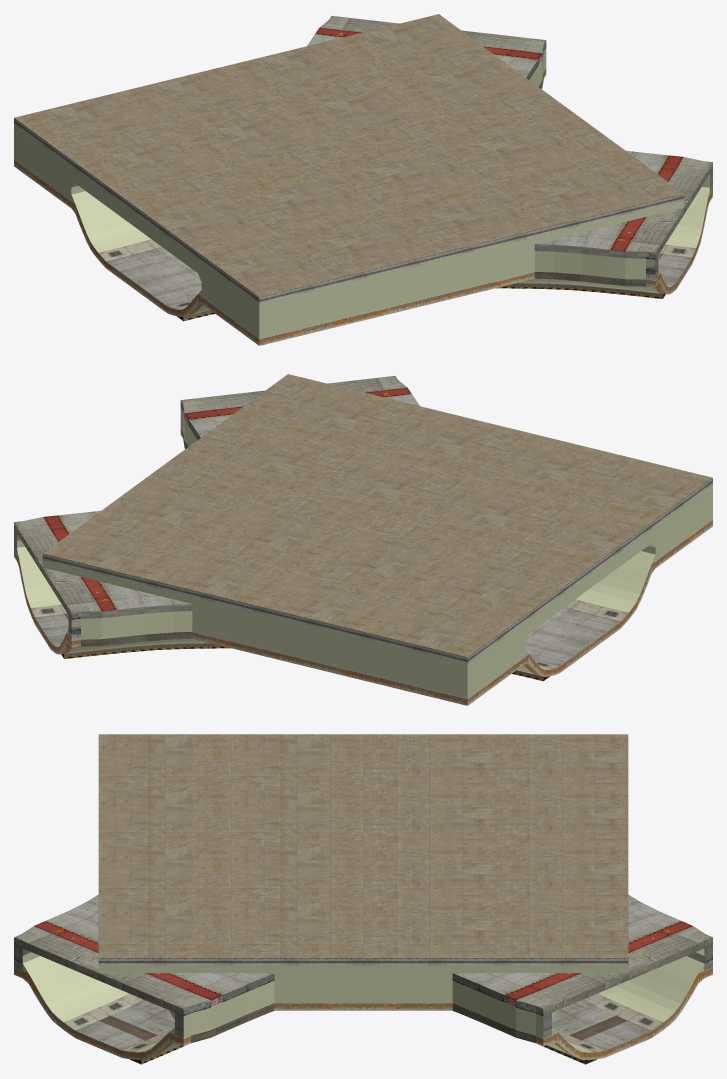
File: PlatformUnitHor_Y_SEAMED_Exprt.fbx
3 views of the same model, one above another, from view 1: azimuth 30°, elevation 25°; view 2: azimuth 150°, elevation 25°; view 3: azimuth 270°, elevation 25° (orthographic). The views are drawn at different scales.
Visible parts, largest first — view 1: PlatformUnitHor_Y_Lod0.001; view 2: PlatformUnitHor_Y_Lod0.001; view 3: PlatformUnitHor_Y_Lod0.001.
Boxes of the visible parts, x1,y1,x2,y2 form: PlatformUnitHor_Y_Lod0.001: (14,14,712,345); PlatformUnitHor_Y_Lod0.001: (14,374,712,705); PlatformUnitHor_Y_Lod0.001: (14,734,712,1064).
Size of the model in its own units: 74.26 by 12.64 by 84.51.
